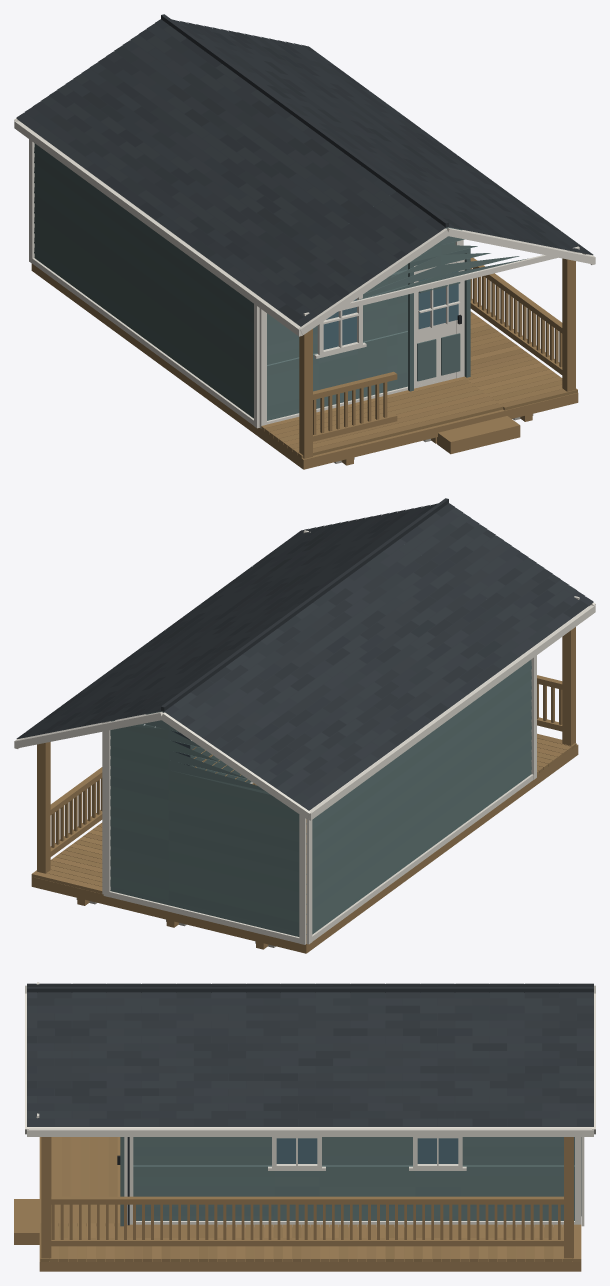
Rendered from 10-deluxe-porch.glb.
3 views of the same model, one above another, from view 1: azimuth 30°, elevation 25°; view 2: azimuth 150°, elevation 25°; view 3: azimuth 270°, elevation 25° (orthographic).
Parts seen in each view (by area): view 1: Main roof, left wall, Porch decking, columns and rails, front wall, front wall entry, Floor platform and skids, front porch gable, front wall window; view 2: Main roof, rear wall, left wall, Porch decking, columns and rails, Floor platform and skids, right wall; view 3: Main roof, Porch decking, columns and rails, right wall, Floor platform and skids, right wall window, front wall entry.
Boxes of the visible parts, bbox=[...] form: Main roof: bbox=[14, 14, 595, 336]; left wall: bbox=[29, 139, 259, 428]; Porch decking, columns and rails: bbox=[260, 257, 577, 458]; front wall: bbox=[259, 206, 462, 428]; front wall entry: bbox=[408, 248, 470, 391]; Floor platform and skids: bbox=[31, 263, 578, 469]; front porch gable: bbox=[303, 227, 579, 315]; front wall window: bbox=[314, 294, 366, 358]; Main roof: bbox=[14, 498, 595, 820]; rear wall: bbox=[103, 711, 306, 944]; left wall: bbox=[306, 655, 536, 944]; Porch decking, columns and rails: bbox=[31, 627, 576, 893]; Floor platform and skids: bbox=[31, 744, 578, 953]; right wall: bbox=[102, 722, 252, 894]; Main roof: bbox=[25, 983, 595, 1136]; Porch decking, columns and rails: bbox=[14, 1137, 581, 1261]; right wall: bbox=[129, 1137, 581, 1226]; Floor platform and skids: bbox=[39, 1137, 581, 1271]; right wall window: bbox=[268, 1137, 466, 1170]; front wall entry: bbox=[117, 1137, 129, 1226].
Size of the model in its own units: 4.61 by 3.36 by 7.86.
